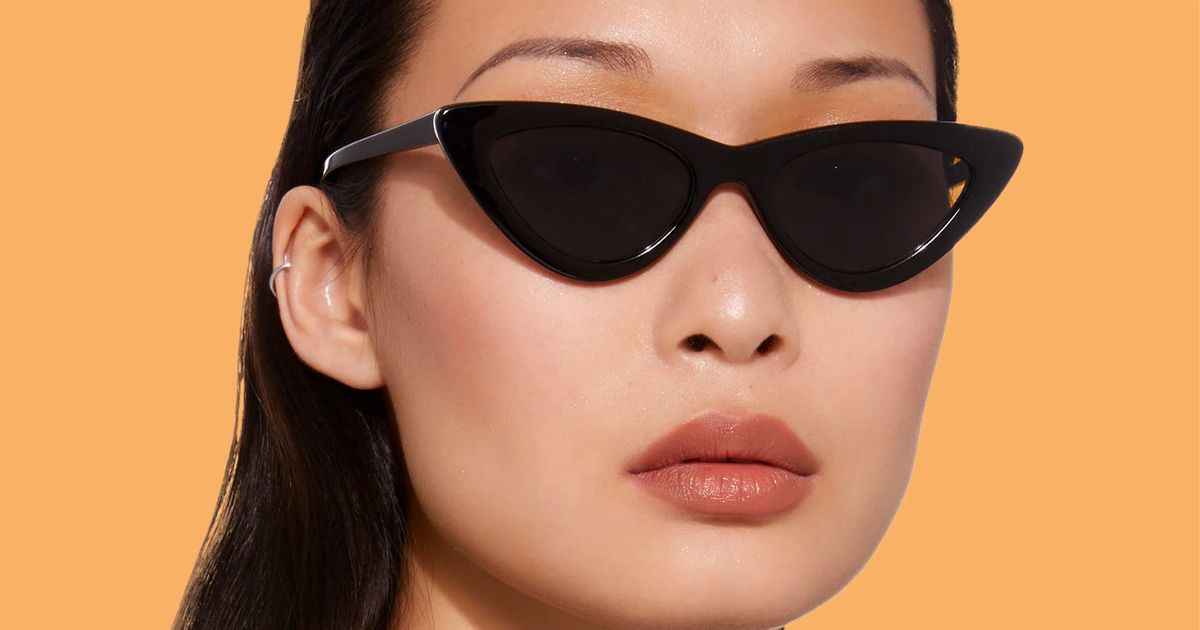lente: (306, 99, 1027, 301)
